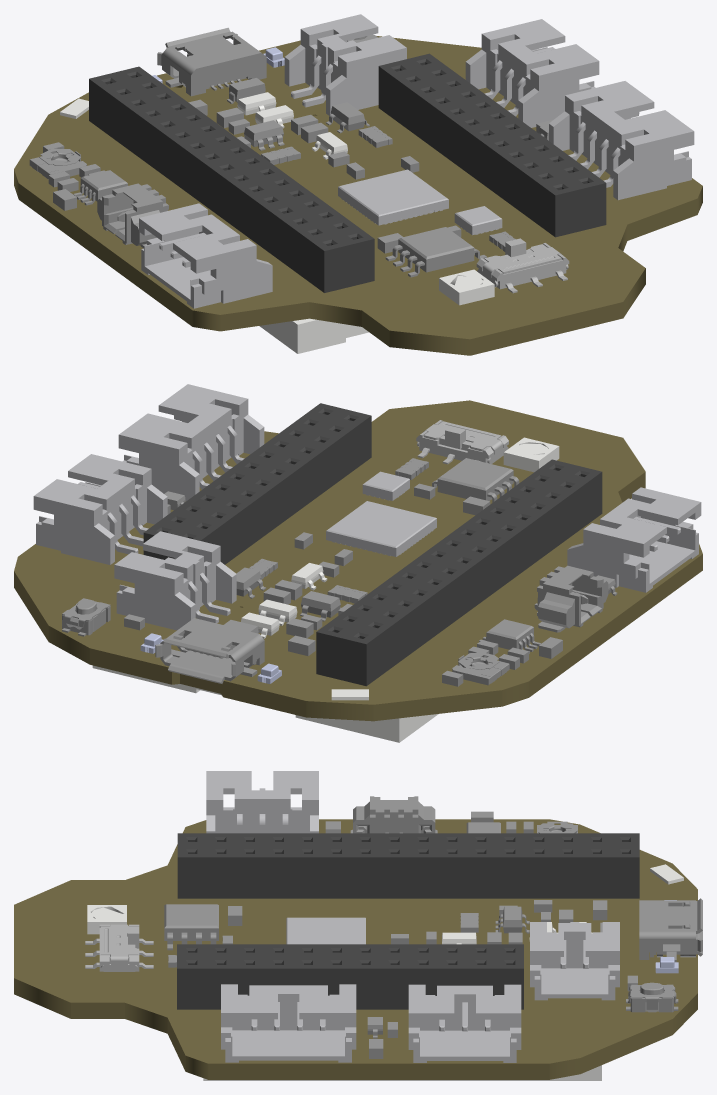
The model's file is ada-3900.glb.
3 views of the same model, one above another, from view 1: azimuth 30°, elevation 25°; view 2: azimuth 150°, elevation 25°; view 3: azimuth 270°, elevation 25° (orthographic). The views are drawn at different scales.
Parts seen in each view (by area): view 1: 0.16666666666666666_0.16666666666666666_0.08333333333333333_, 0.5833333333333334_0.5833333333333334_0.5833333333333334_0.8, 0.08333333333333333_0.08333333333333333_0.08333333333333333_, 0.3333333333333333_0.3333333333333333_0.3333333333333333_0, 0.9166666666666666_0.9166666666666666_0.9166666666666666_0.8, 0.5_0.5_0.5_0.85; view 2: 0.16666666666666666_0.16666666666666666_0.08333333333333333_, 0.5833333333333334_0.5833333333333334_0.5833333333333334_0.8, 0.08333333333333333_0.08333333333333333_0.08333333333333333_, 0.3333333333333333_0.3333333333333333_0.3333333333333333_0, 0.9166666666666666_0.9166666666666666_0.9166666666666666_0.8, 0.5_0.5_0.5_0.85, 0.5833333333333334_0.6666666666666666_0.8333333333333334_0; view 3: 0.16666666666666666_0.16666666666666666_0.08333333333333333_, 0.08333333333333333_0.08333333333333333_0.08333333333333333_, 0.5833333333333334_0.5833333333333334_0.5833333333333334_0.8, 0.3333333333333333_0.3333333333333333_0.3333333333333333_0, 0.9166666666666666_0.9166666666666666_0.9166666666666666_0.8, 0.5_0.5_0.5_0.85.
Part boxes in pixels (x1,y1,x2,y2): 0.16666666666666666_0.16666666666666666_0.08333333333333333_: (14, 36, 702, 355); 0.5833333333333334_0.5833333333333334_0.5833333333333334_0.8: (139, 14, 694, 308); 0.08333333333333333_0.08333333333333333_0.08333333333333333_: (89, 53, 606, 292); 0.3333333333333333_0.3333333333333333_0.3333333333333333_0: (29, 27, 552, 277); 0.9166666666666666_0.9166666666666666_0.9166666666666666_0.8: (60, 92, 494, 353); 0.5_0.5_0.5_0.85: (476, 238, 569, 293); 0.16666666666666666_0.16666666666666666_0.08333333333333333_: (14, 400, 702, 721); 0.5833333333333334_0.5833333333333334_0.5833333333333334_0.8: (33, 384, 701, 630); 0.08333333333333333_0.08333333333333333_0.08333333333333333_: (143, 403, 602, 686); 0.3333333333333333_0.3333333333333333_0.3333333333333333_0: (62, 458, 617, 686); 0.9166666666666666_0.9166666666666666_0.9166666666666666_0.8: (92, 437, 559, 742); 0.5_0.5_0.5_0.85: (416, 420, 508, 464); 0.5833333333333334_0.6666666666666666_0.8333333333333334_0: (140, 633, 281, 683); 0.16666666666666666_0.16666666666666666_0.08333333333333333_: (14, 819, 697, 1079); 0.08333333333333333_0.08333333333333333_0.08333333333333333_: (177, 833, 639, 1009); 0.5833333333333334_0.5833333333333334_0.5833333333333334_0.8: (206, 771, 619, 1062); 0.3333333333333333_0.3333333333333333_0.3333333333333333_0: (164, 796, 702, 1058); 0.9166666666666666_0.9166666666666666_0.9166666666666666_0.8: (87, 864, 683, 1080); 0.5_0.5_0.5_0.85: (85, 924, 153, 971).
Size of the model in its own units: 5.08 by 1.12 by 6.05.
